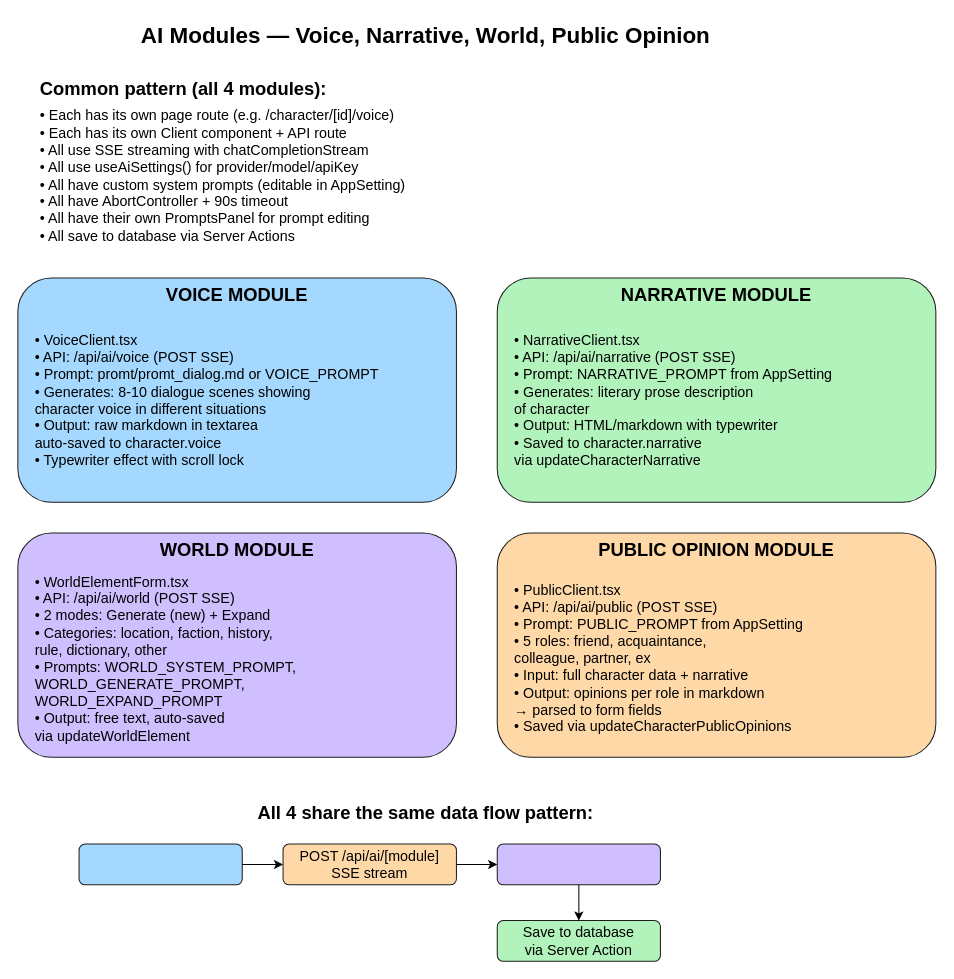
The diagram is 954 pixels wide and 979 high, and some of its shapes have lost their labels. Here are the shapes that lost their labels. From the top down, the centre of each, then its label:
At pixel 160 864: "User clicks Generate".
At pixel 578 864: "Typewriter append to textarea".
